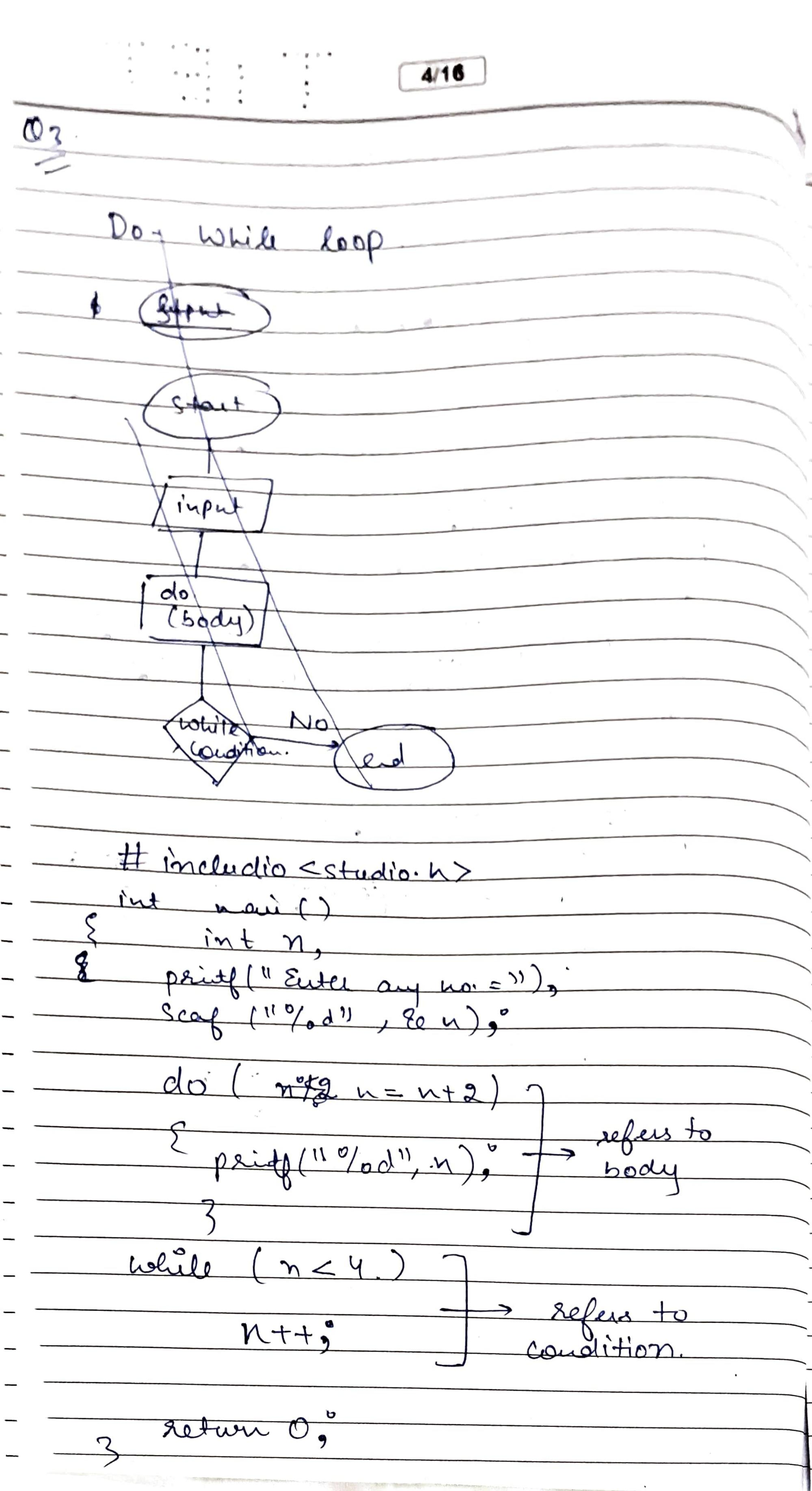cuttings: (106, 207, 457, 793), (274, 1074, 338, 1108), (73, 950, 101, 983), (89, 290, 102, 320)
